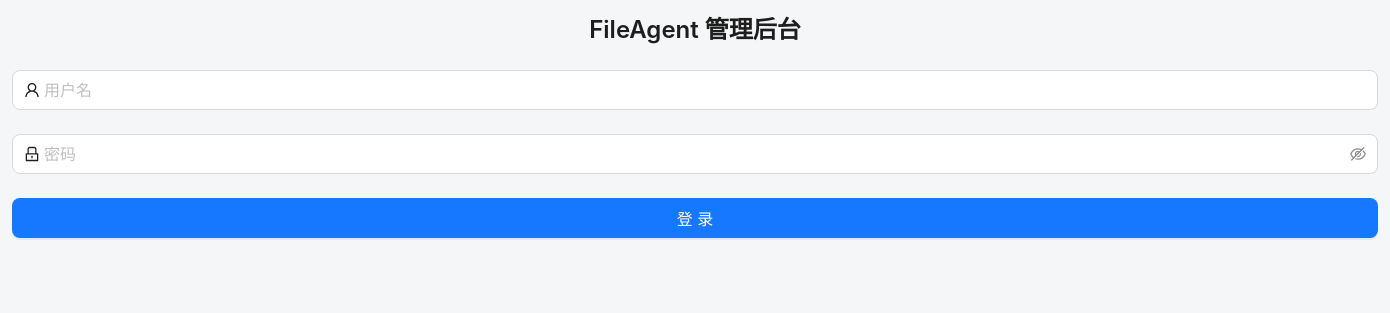
Test: LoginPage › shows error alert on login failure
Type "wrong" into the field with id "login_username" at (705, 90), box [44,78,1366,102]
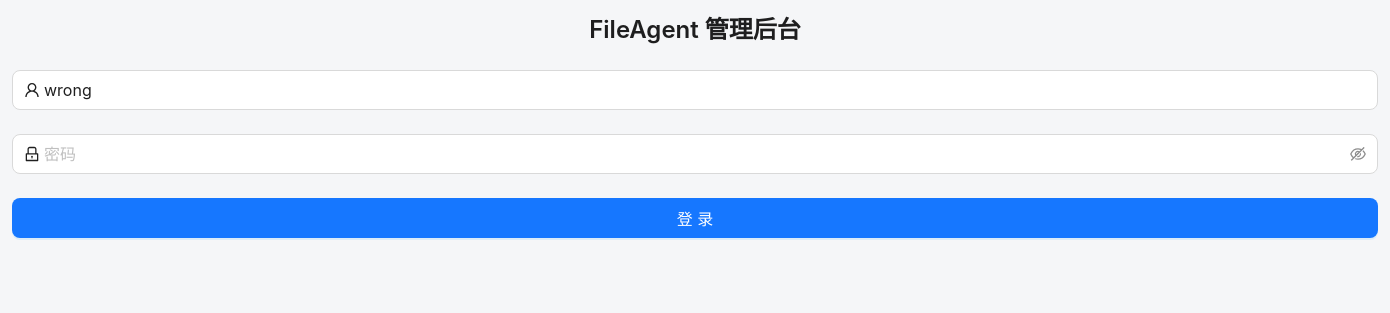
Type "bad" into the password field with id "login_password" at (695, 154), box [44,142,1346,166]
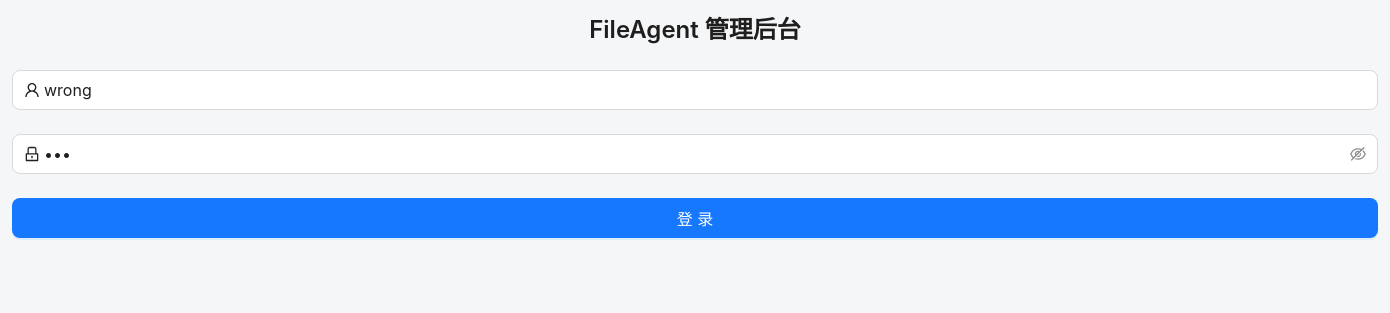
Click the submit button at (695, 218), box [12,198,1378,238]
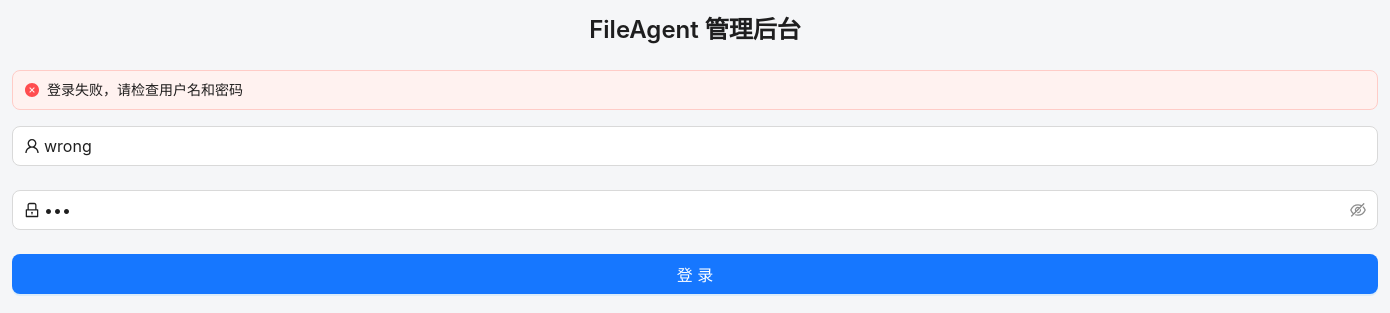
expect the message "登录失败，请检查用户名和密码" is shown: met, box [12,70,1378,110]
